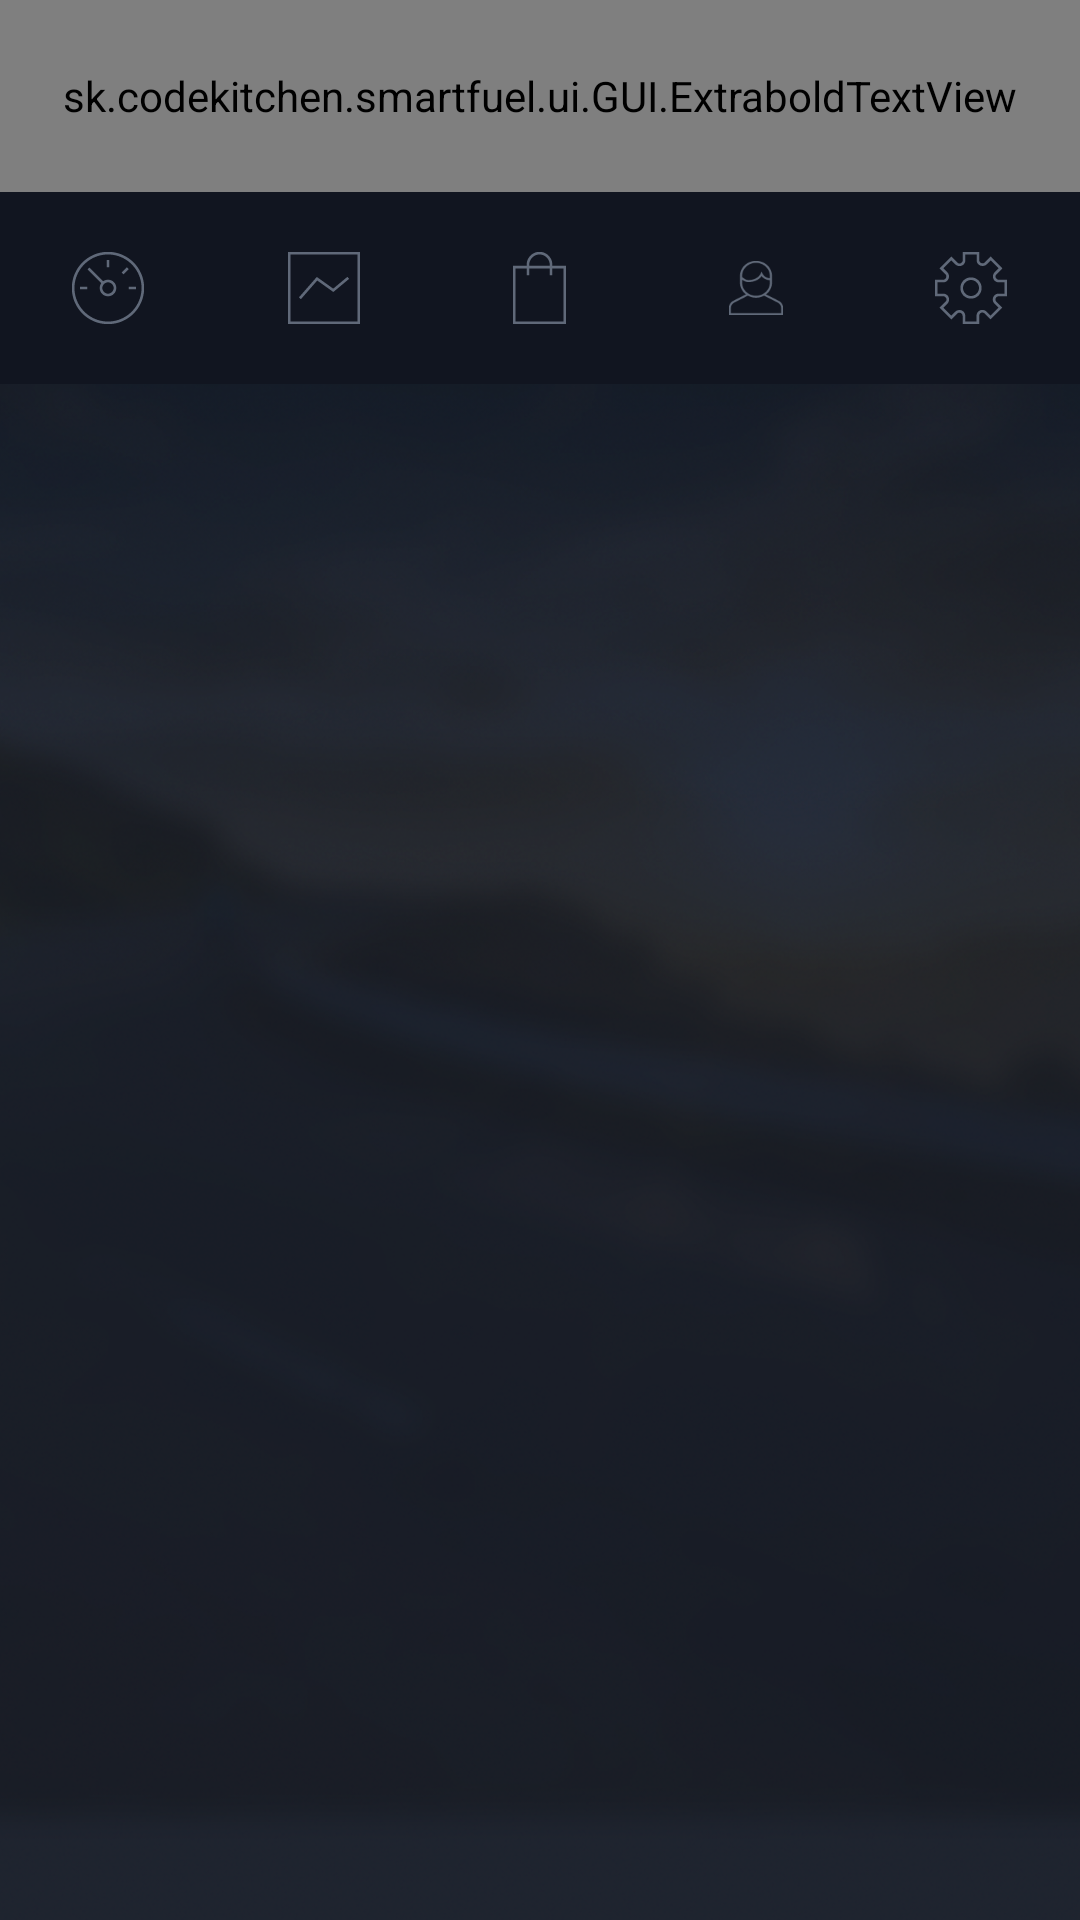

Locate icon controls on the screen. Image size 1080×1920, boxes as bbox=(x1, y1, x2, y2).
graph: bbox=(288, 252, 360, 324)
profile: bbox=(729, 261, 783, 315)
settings: bbox=(935, 252, 1007, 324)
shop: bbox=(513, 252, 566, 324)
speed: bbox=(72, 252, 144, 324)
